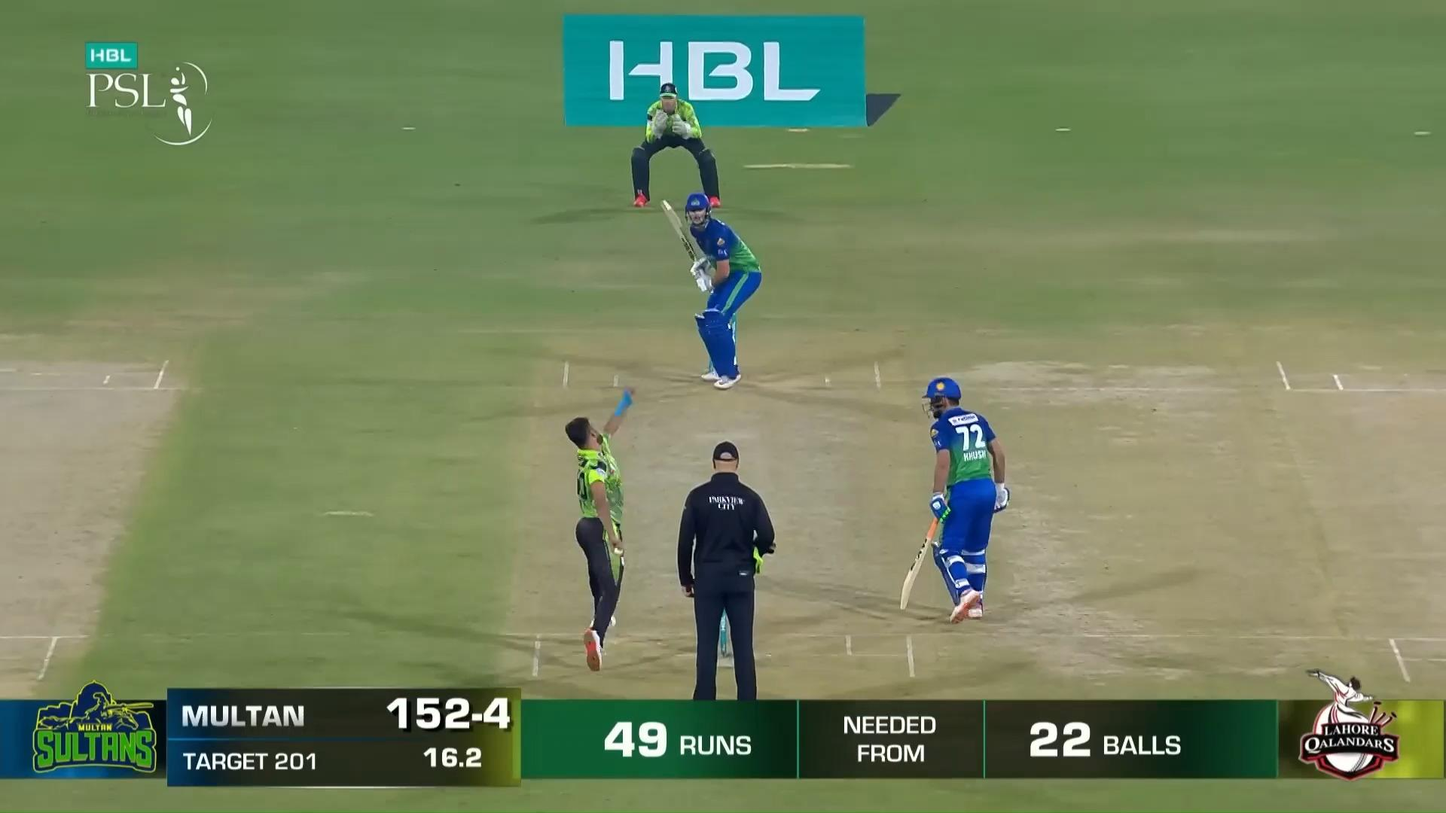batsman: (662, 192, 762, 390)
